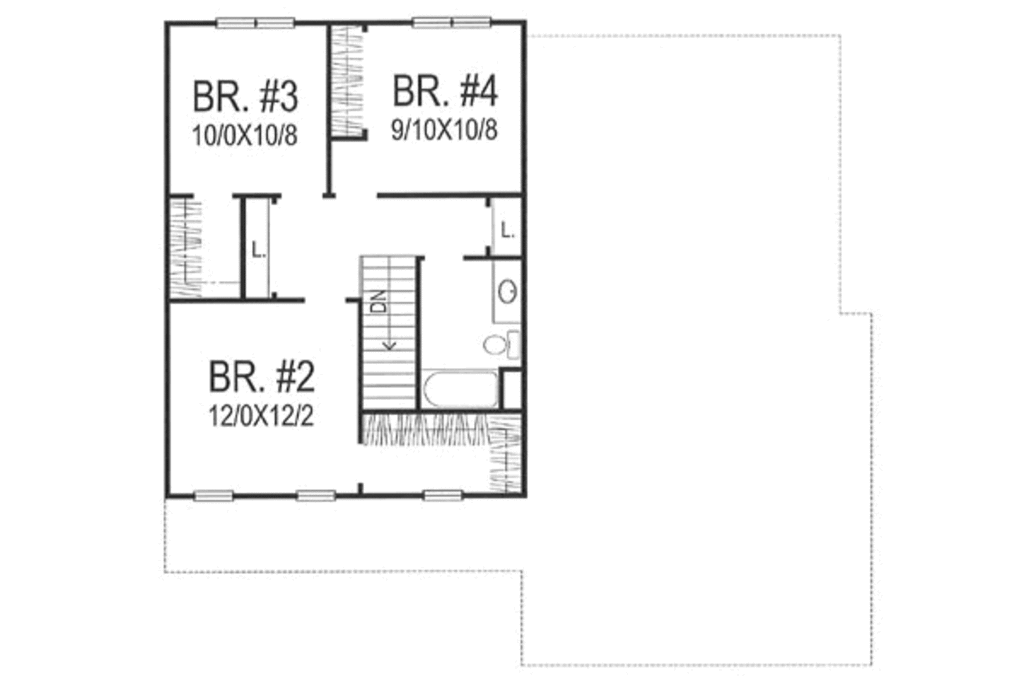large_sink: (479, 330, 525, 362)
small_sink: (489, 259, 523, 328)
stairs: (356, 255, 424, 410)
tub: (420, 366, 505, 415)
window: (411, 13, 495, 31), (214, 15, 306, 29), (422, 486, 474, 504), (296, 484, 337, 506), (190, 486, 234, 504)
